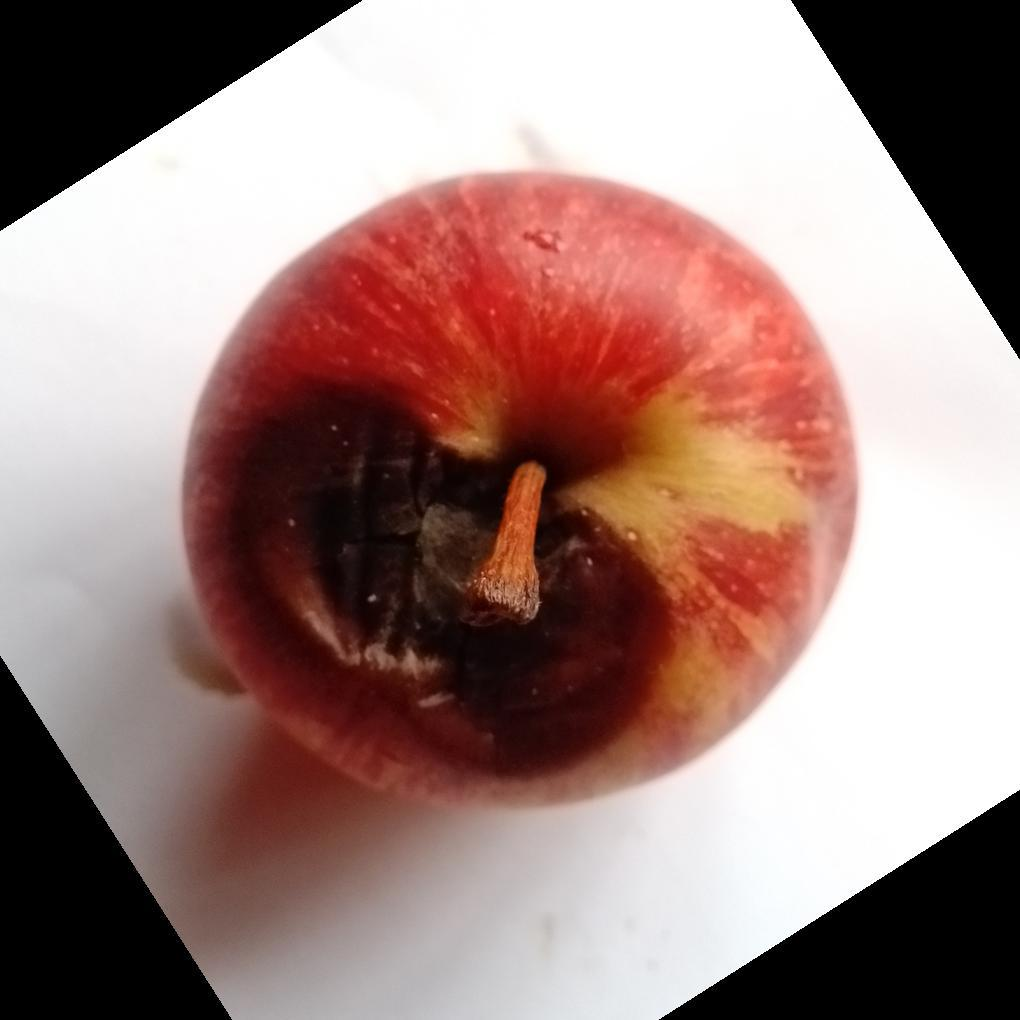FreshOrange: (177, 170, 862, 817)
